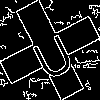U: (25, 25, 79, 83)
